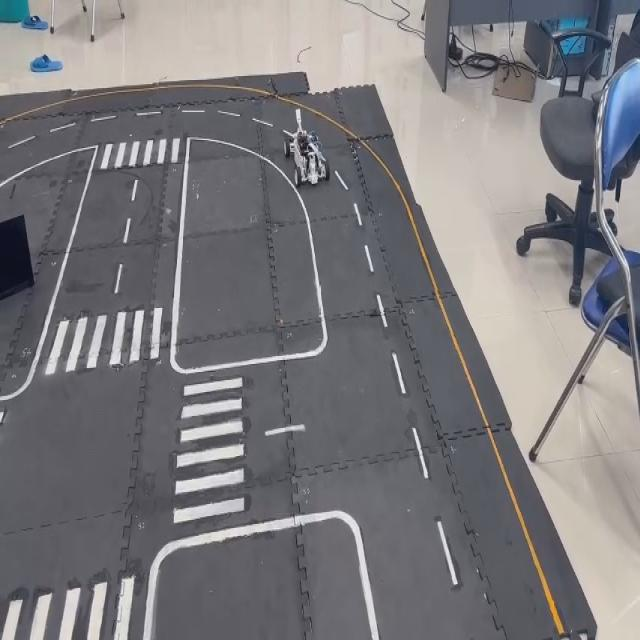SiCo-CAR: (282, 106, 330, 186)
